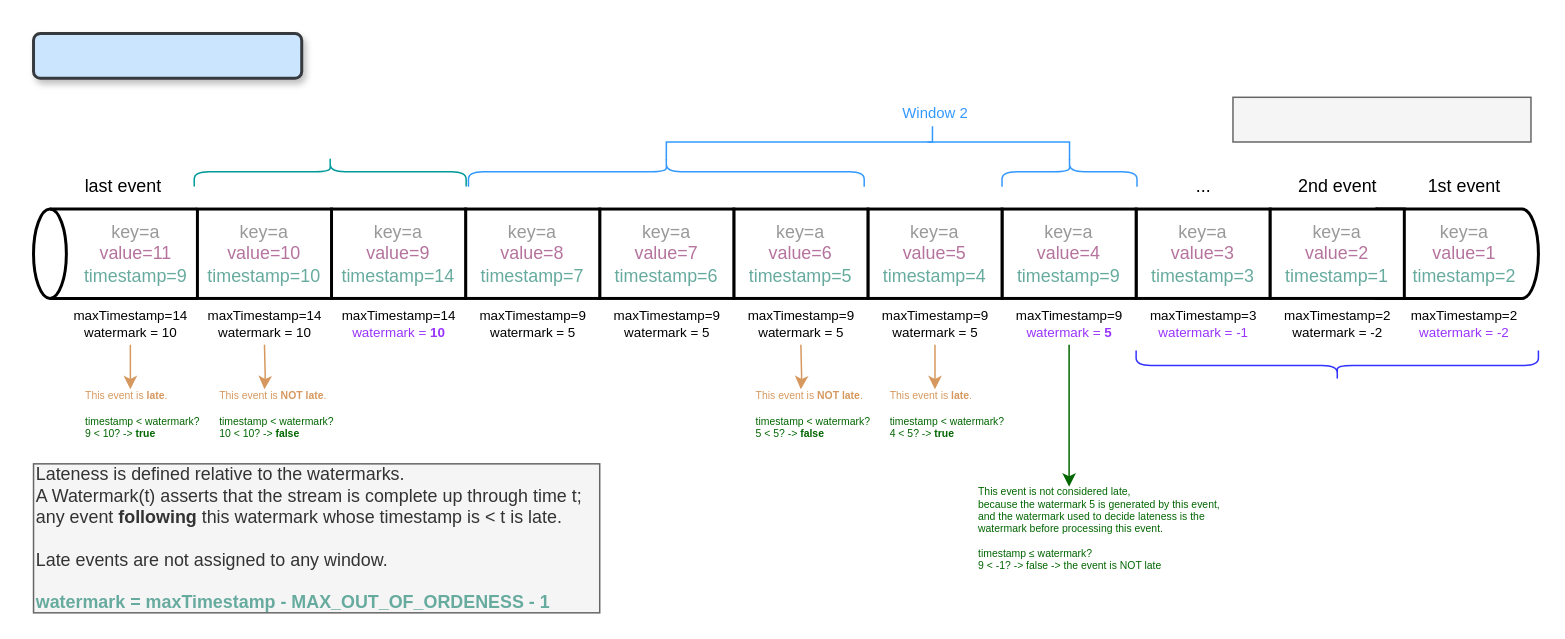
This 1565x639 diagram has some shape labels left out. The shapes that lost their labels are listed below. From the top down, each one's centre as x and y in pixels, then its label:
At (168,57): "Tumbling Event Time Window With Punctuated Watermarks".
At (1381,119): "MAX_OUT_OF_ORDERNESS = 3 WINDOW_SIZE = 3".
At (329,171): "Window 3".
At (1336,364): "Window 1".
